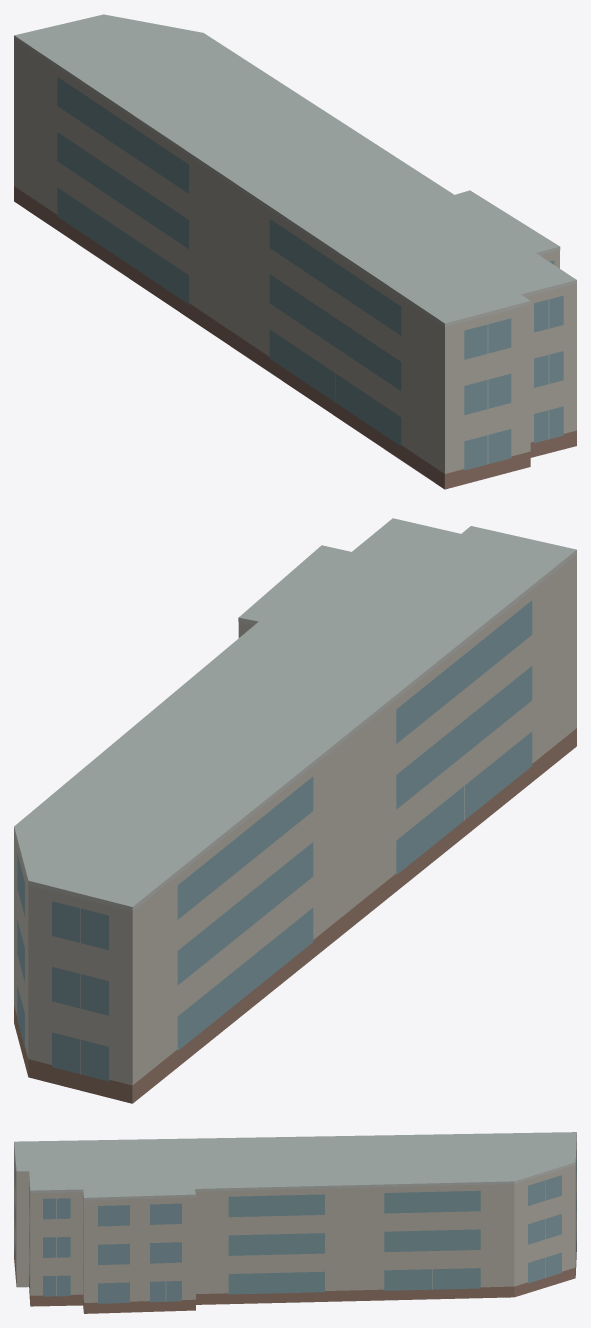
File: survey-upis-32889286.glb
The picture shows the model from 3 angles, top to bottom: view 1: azimuth 30°, elevation 25°; view 2: azimuth 150°, elevation 25°; view 3: azimuth 270°, elevation 25°; orthographic projection. The views are drawn at different scales.
Parts seen in each view (by area): view 1: survey-upis-32889286.tmp; view 2: survey-upis-32889286.tmp; view 3: survey-upis-32889286.tmp.
Part boxes in pixels (x1=…): survey-upis-32889286.tmp: x1=14, y1=14, x2=576, y2=489; survey-upis-32889286.tmp: x1=14, y1=518, x2=576, y2=1103; survey-upis-32889286.tmp: x1=14, y1=1132, x2=576, y2=1313.
Bounding box in the file's own units: 13.16 × 10.8 × 47.52.
